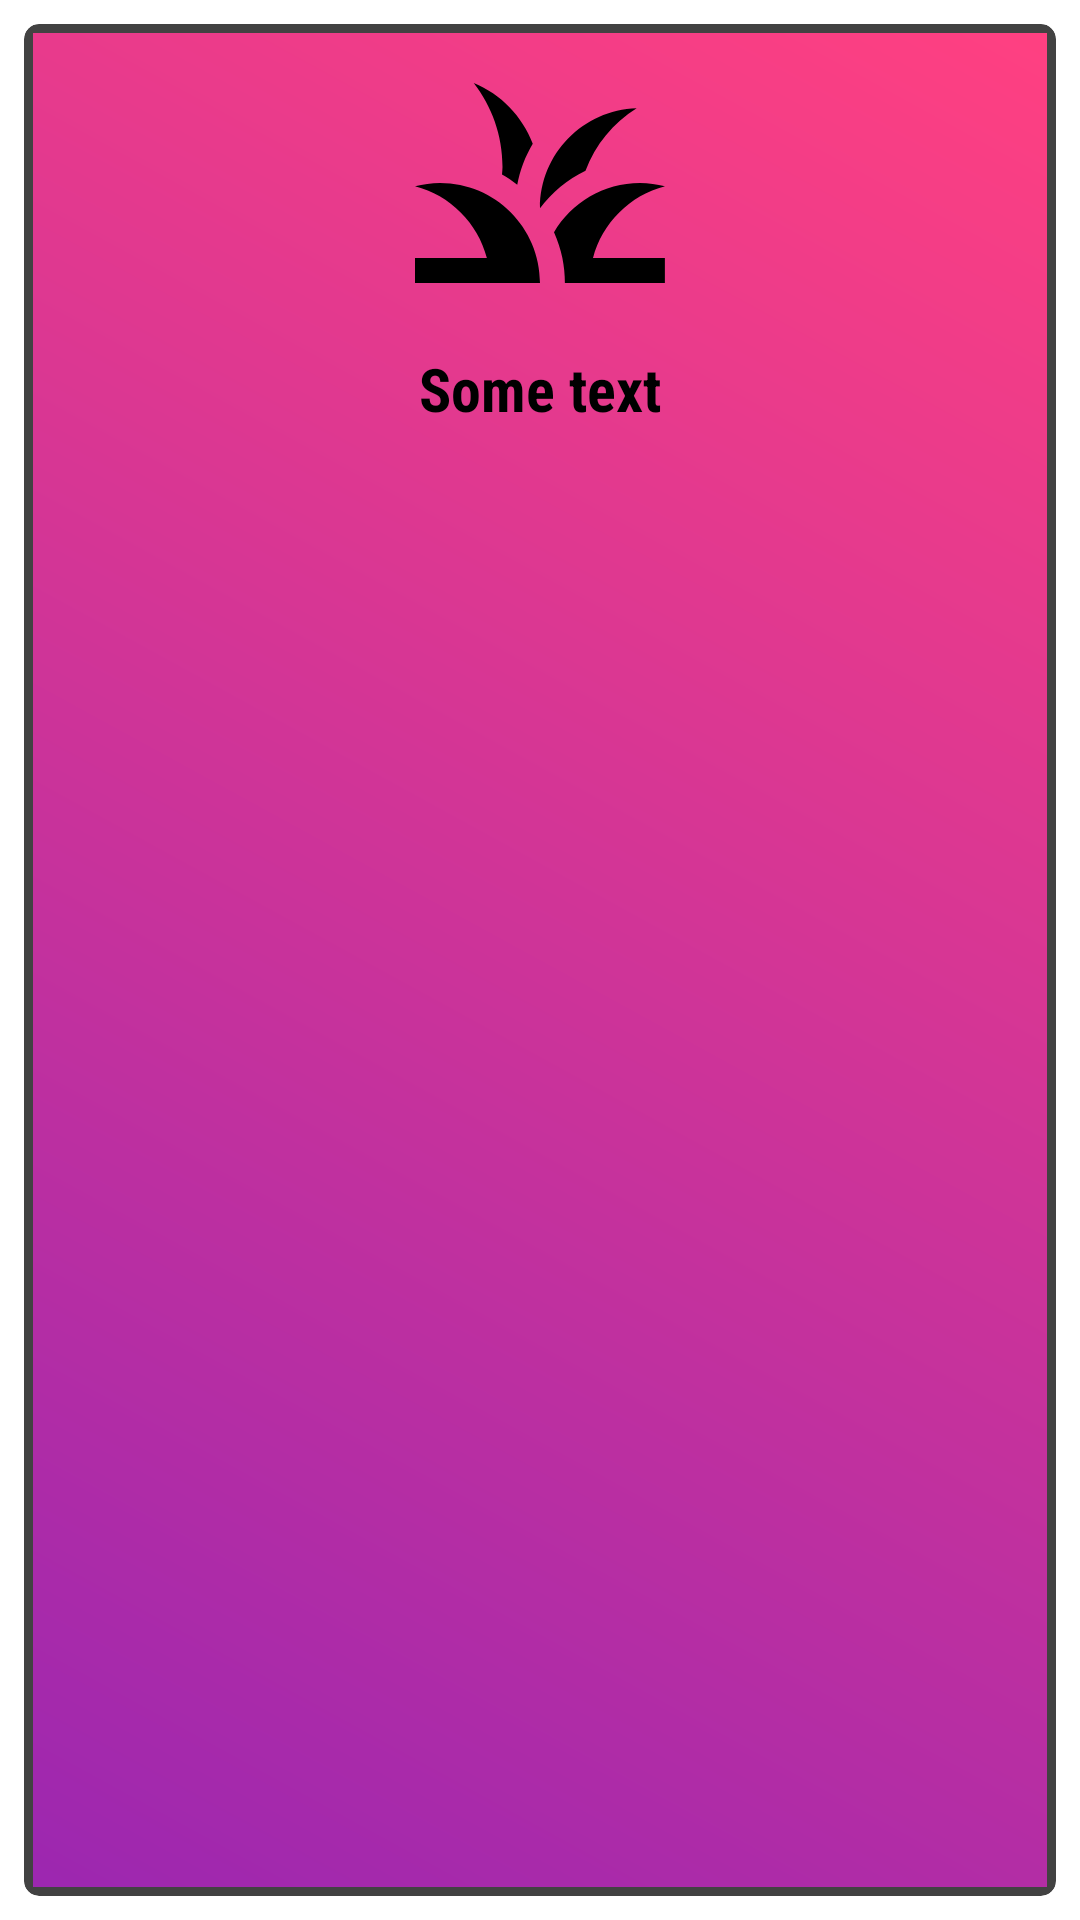

Icons on this 1080*1920 Android screen, each with the point to tap as (x=x, y=y):
grass: (x=540, y=183)
